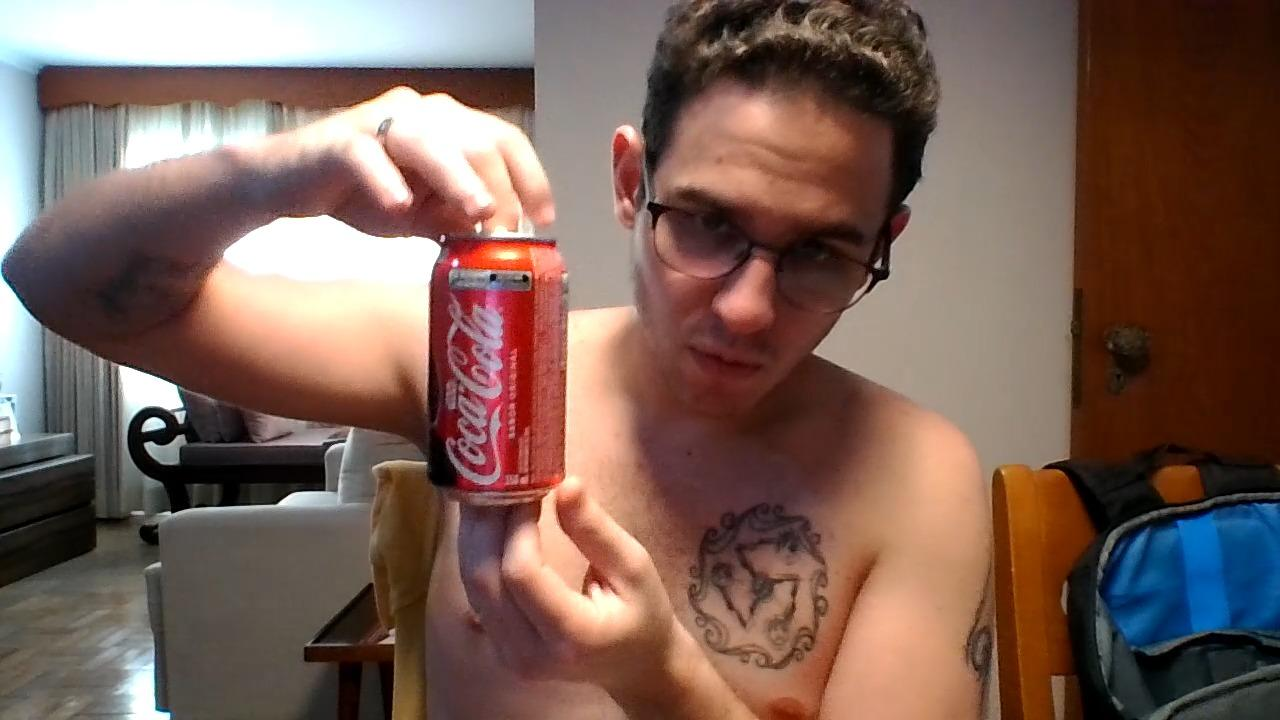coke: (426, 230, 569, 504)
